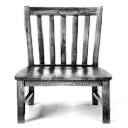chair_success: (5, 0, 120, 128)
